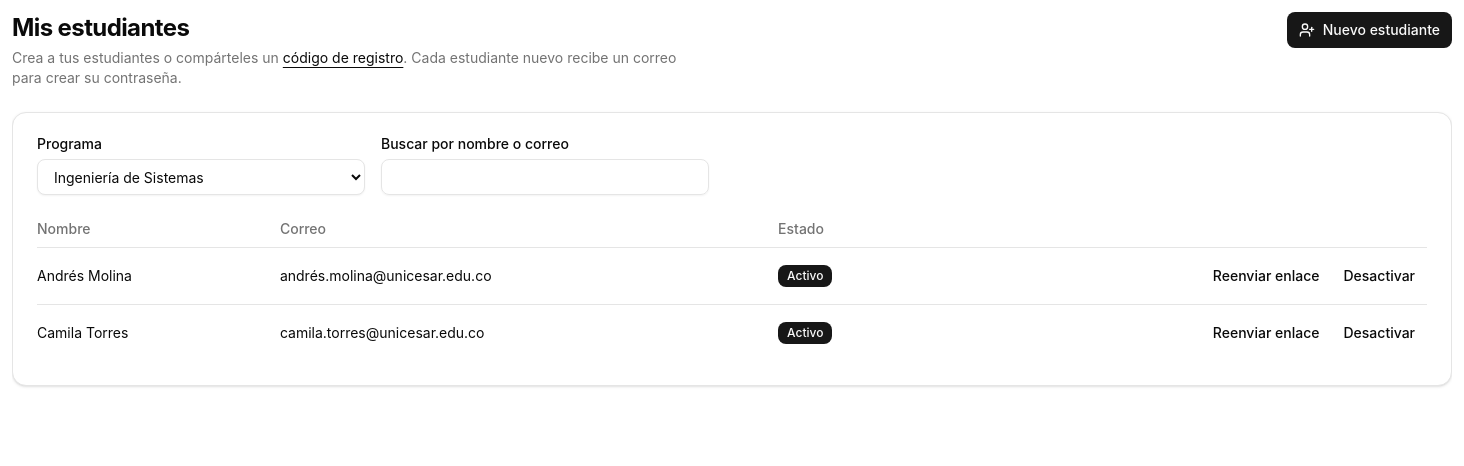
Test case: StudentsPage › shows the API message for a student the teacher does not manage
The width and height of the screenshot is (1464, 466).
Click the button with aria-label "Reenviar enlace a Andrés Molina" at (1266, 276), box [1201,260,1331,292]
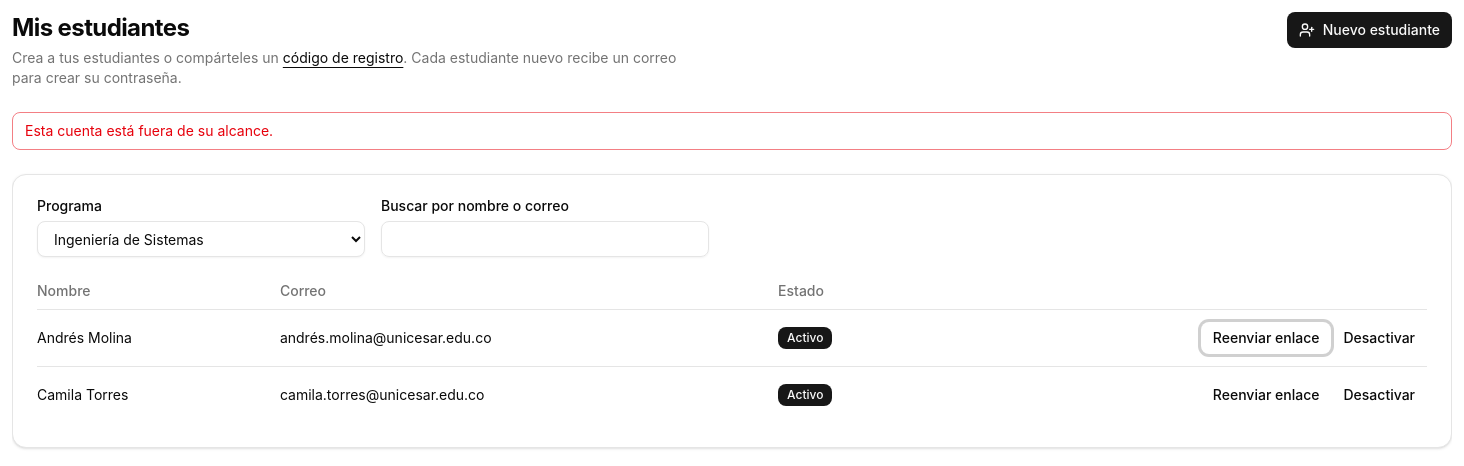
Check: the message reads "Esta cuenta está fuera de su alcance.", box [25,122,273,139]
